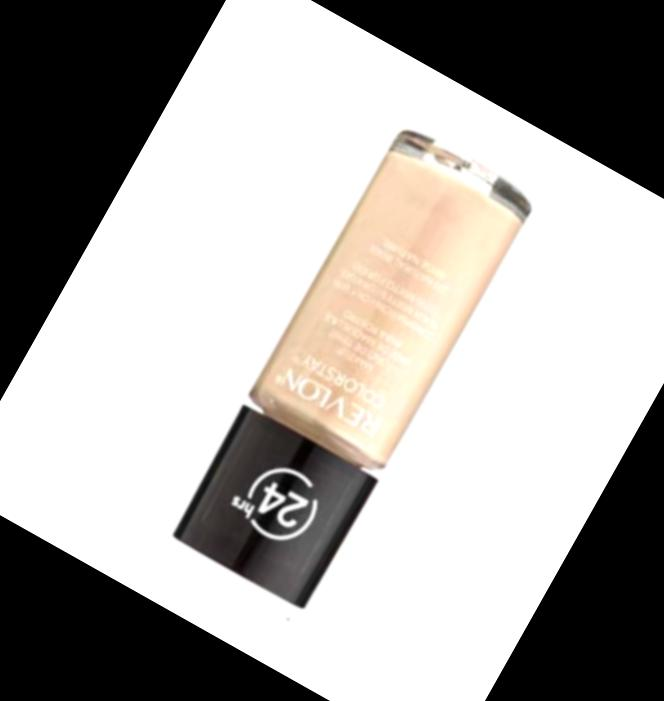cosmetic: (170, 125, 538, 611)
